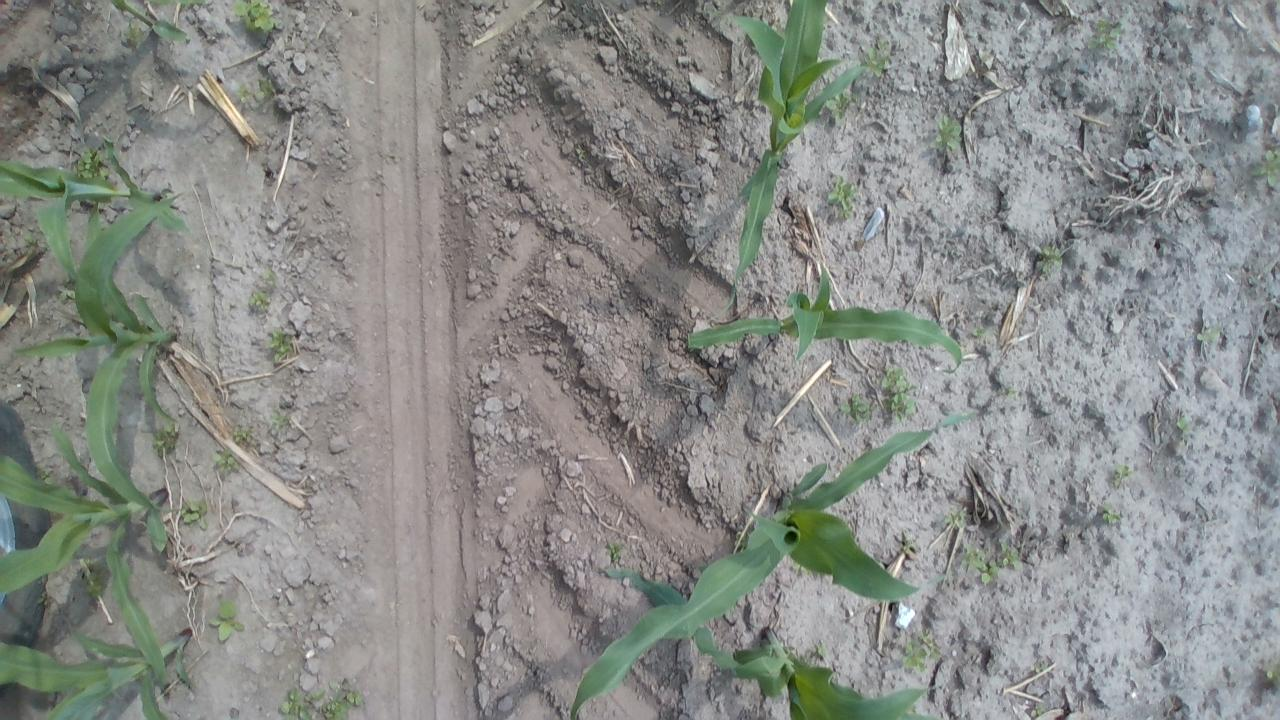Maize: (567, 405, 991, 720), (16, 178, 180, 514), (602, 566, 952, 720), (714, 0, 876, 321), (0, 408, 182, 689), (675, 266, 970, 379), (0, 134, 195, 292), (2, 616, 206, 720), (100, 0, 216, 53)
Weeds: (276, 677, 366, 720), (960, 542, 1021, 588), (875, 364, 920, 425), (208, 598, 250, 654), (227, 0, 283, 41), (76, 556, 114, 608), (902, 627, 941, 672), (1083, 16, 1129, 54), (928, 114, 964, 157), (826, 176, 860, 221), (1245, 148, 1280, 190), (248, 267, 278, 314), (172, 494, 208, 530), (72, 148, 108, 182), (856, 46, 892, 80), (150, 418, 180, 456), (268, 328, 297, 366), (836, 389, 870, 420), (824, 90, 854, 125), (1033, 240, 1062, 276), (210, 446, 242, 478), (1186, 320, 1219, 348), (248, 76, 277, 106), (811, 637, 837, 668), (1098, 502, 1127, 529), (943, 508, 974, 532), (605, 536, 627, 568), (262, 411, 290, 434), (1260, 661, 1280, 692), (230, 423, 256, 446), (732, 528, 755, 554), (1176, 413, 1194, 442), (792, 560, 822, 577), (1108, 463, 1134, 482), (54, 282, 76, 304), (36, 467, 59, 487), (968, 326, 993, 342), (570, 145, 590, 164)
